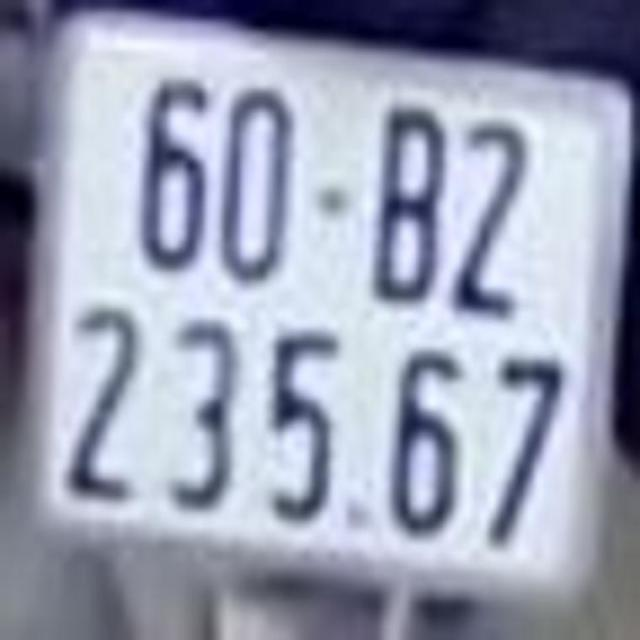0: (224, 90, 301, 281)
2: (454, 110, 520, 308), (68, 302, 131, 508)
3: (165, 306, 232, 514)
5: (264, 326, 332, 524)
6: (390, 326, 460, 536), (140, 74, 207, 265)
7: (484, 344, 568, 553)
B: (380, 106, 440, 300)
